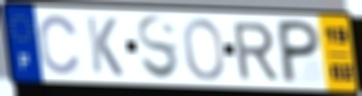C: (37, 13, 83, 77)
K: (84, 14, 126, 79)
O: (181, 17, 227, 83)
P: (278, 18, 323, 86)
R: (230, 20, 281, 82)
S: (135, 13, 182, 83)
